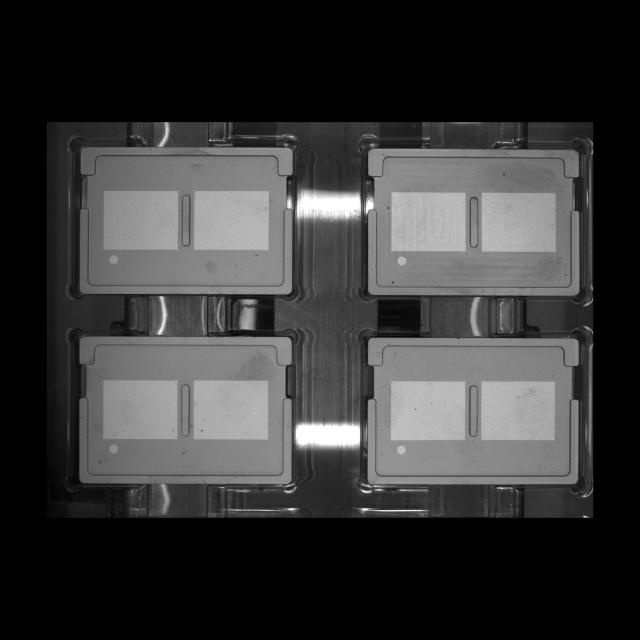product: (354, 132, 591, 306), (354, 325, 591, 497), (66, 132, 303, 302), (66, 324, 302, 493)
